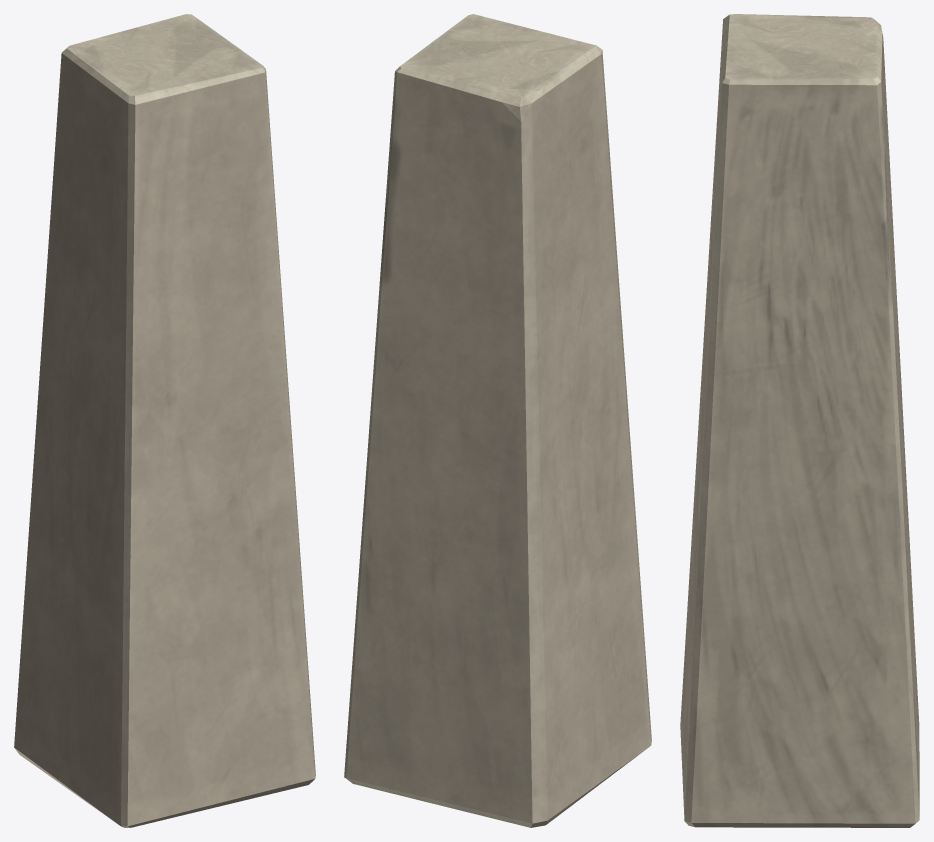
Rendered from pilier.glb.
The picture shows the model from 3 angles, left to right: view 1: azimuth 30°, elevation 25°; view 2: azimuth 150°, elevation 25°; view 3: azimuth 270°, elevation 25°; orthographic projection. The views are drawn at different scales.
Visible parts, largest first — view 1: Plane; view 2: Plane; view 3: Plane.
Boxes of the visible parts, <box> form: Plane: <box>14,14,315,827</box>; Plane: <box>344,14,651,827</box>; Plane: <box>680,14,919,827</box>.
Size of the model in its own units: 1.99 by 6.83 by 2.02.
Materials: 1 (1 with a texture image).
